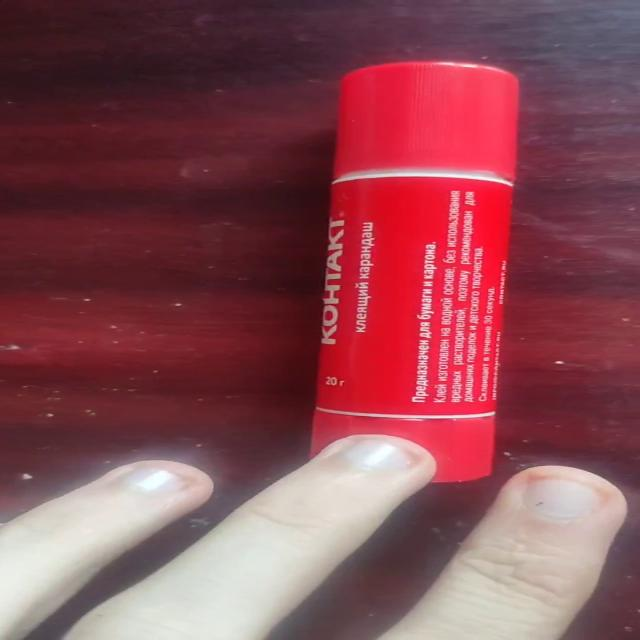glue: (307, 60, 519, 482)
